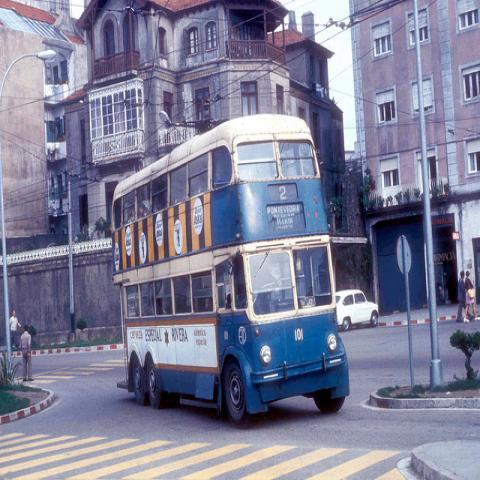bus: (105, 106, 350, 432)
car: (336, 289, 378, 331)
